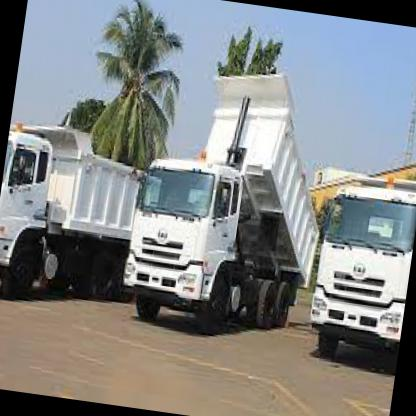truck: (117, 150, 249, 335), (301, 180, 416, 377)
